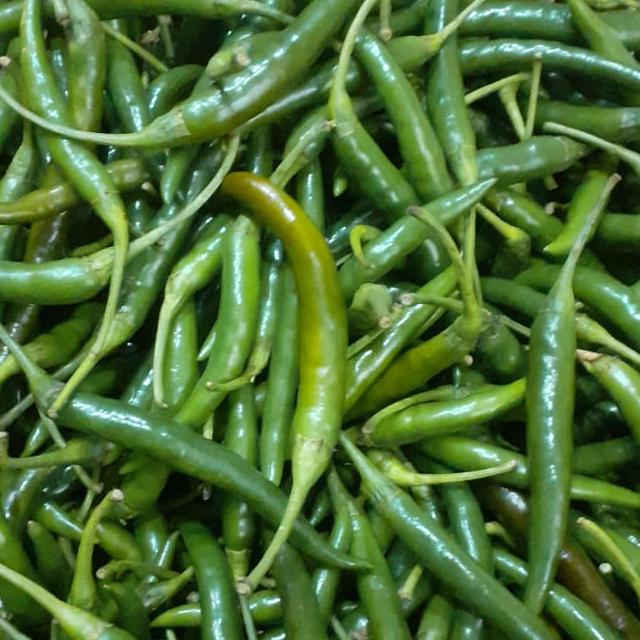chili_pepper: (222, 172, 348, 582), (342, 436, 561, 640), (95, 0, 364, 148), (57, 393, 286, 530), (525, 242, 584, 614), (0, 249, 112, 306), (290, 519, 366, 572)
